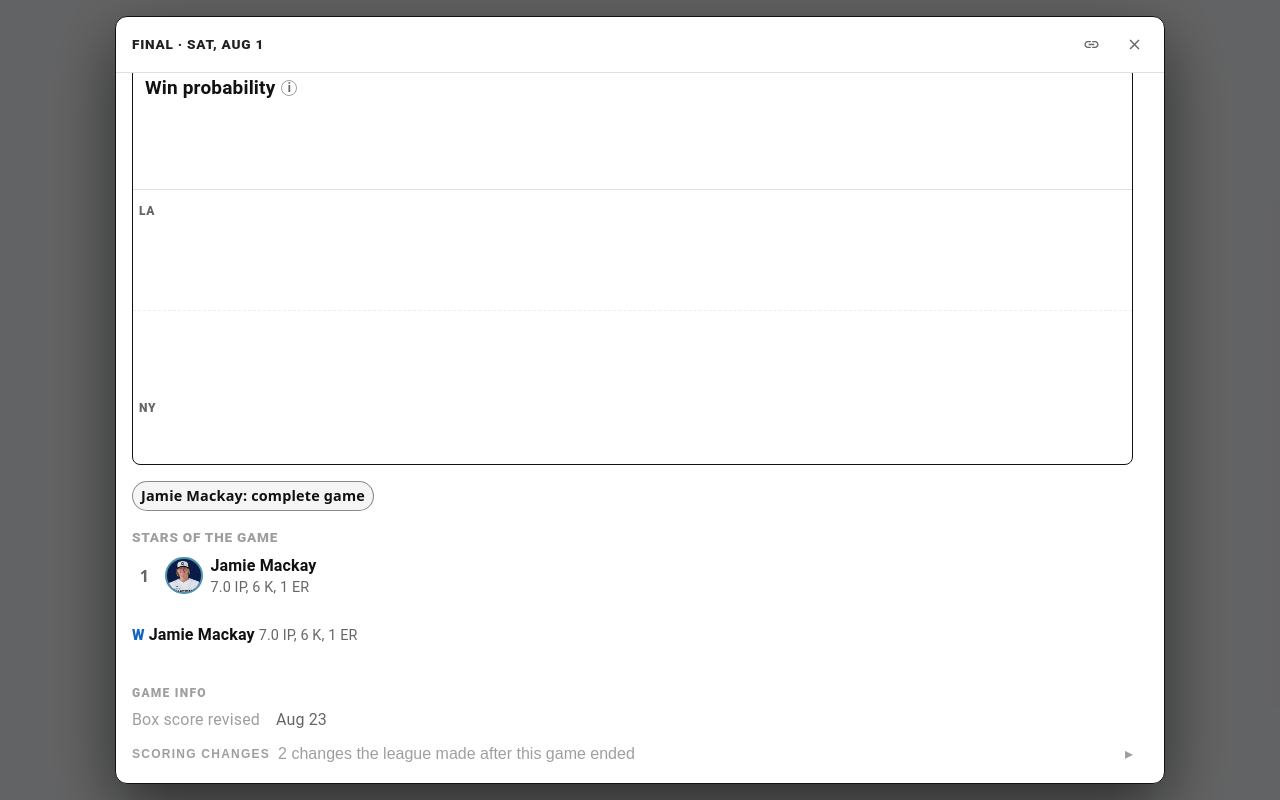
Test case: the scoring changelog › summarizes without expanding, and expands on a tap
(page scrolled)
Expected: the text "2 changes the league made after this game ended" is shown, [278, 745, 635, 763]
Expected: the text "Hits" is not shown
Click the text "Scoring changes" at (201, 754), box [132, 747, 270, 761]
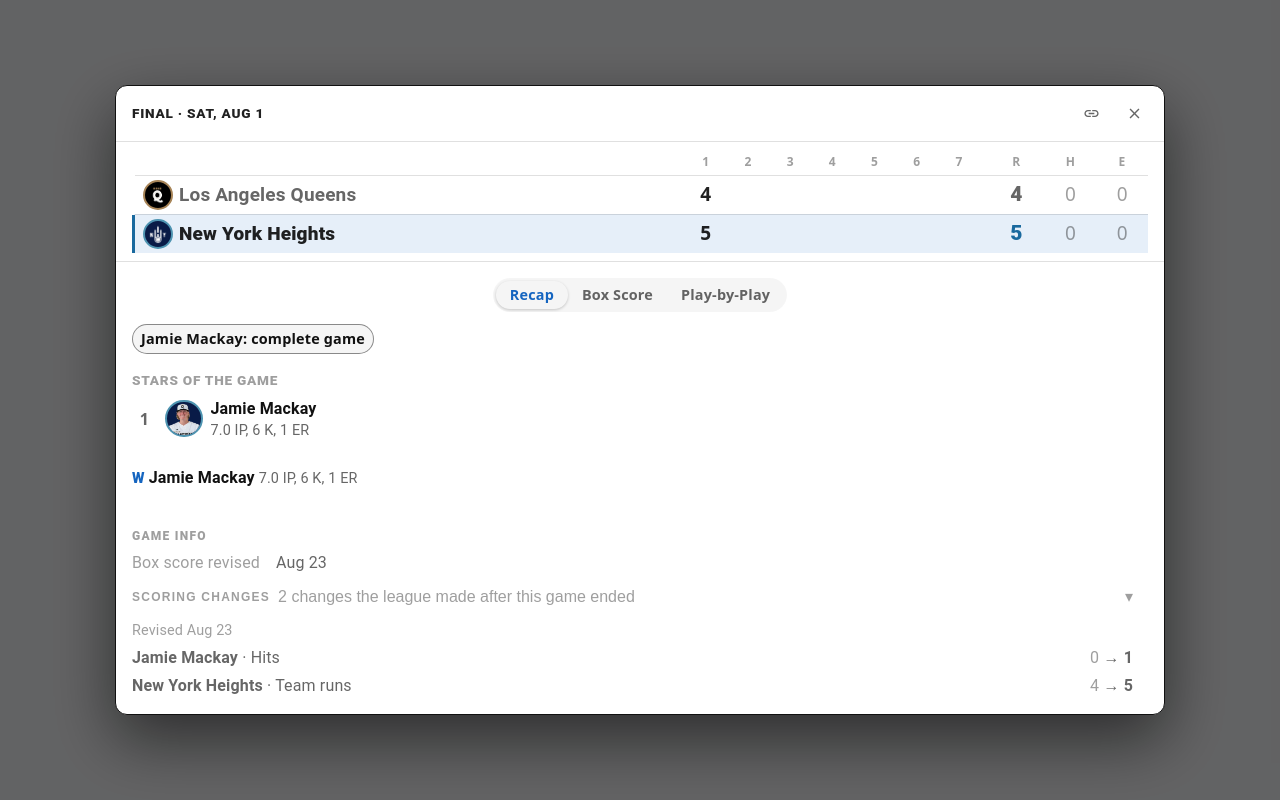
Expected: the text "Jamie Mackay" below "Stars of the game" is shown, [210, 399, 316, 418]
Expected: the text "New York Heights" below "Los Angeles Queens" is shown, [179, 222, 335, 245]
